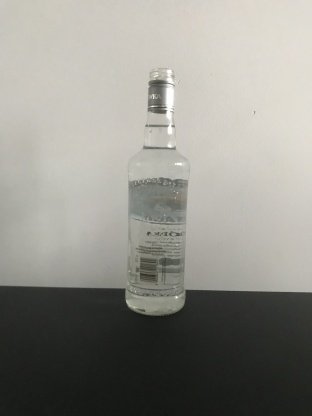nakretka: (145, 65, 177, 114)
